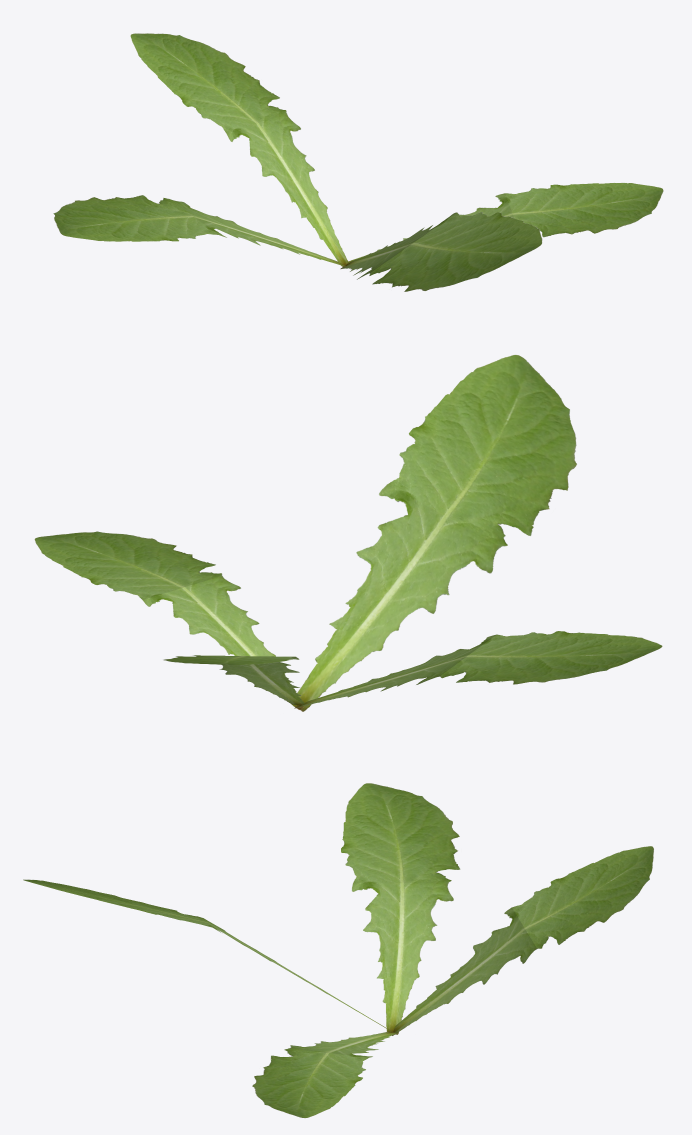
Rendered from dandelion.glb.
The picture shows the model from 3 angles, top to bottom: view 1: azimuth 30°, elevation 25°; view 2: azimuth 150°, elevation 25°; view 3: azimuth 270°, elevation 25°; orthographic projection. The views are drawn at different scales.
Visible parts, largest first — view 1: Dandelion2; view 2: Dandelion2; view 3: Dandelion2.
Boxes of the visible parts, bbox=[...] form: Dandelion2: bbox=[53, 33, 663, 291]; Dandelion2: bbox=[34, 355, 662, 711]; Dandelion2: bbox=[23, 783, 653, 1118].
Size of the model in its own units: 0.3967 by 0.1289 by 0.4097.
1 material, 1 textured.
